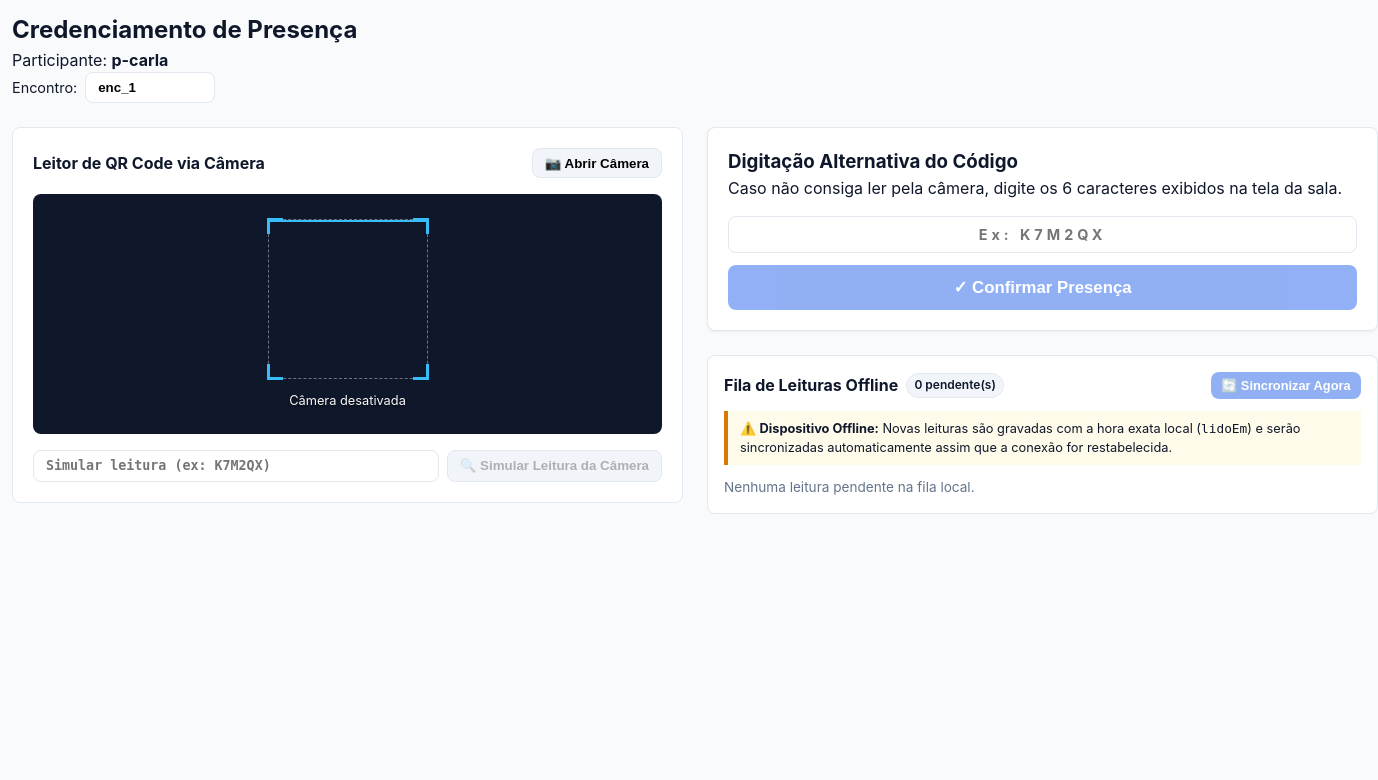
it: M3 — Suporte Offline e Sincronização Resiliente › armazena a leitura localmente quando o dispositivo está offline, registrando o instante lidoEm
The width and height of the screenshot is (1378, 780).
Type "K7M2QX" into the field with test id "input-codigo-manual" at (1042, 235), box [728,216,1357,253]
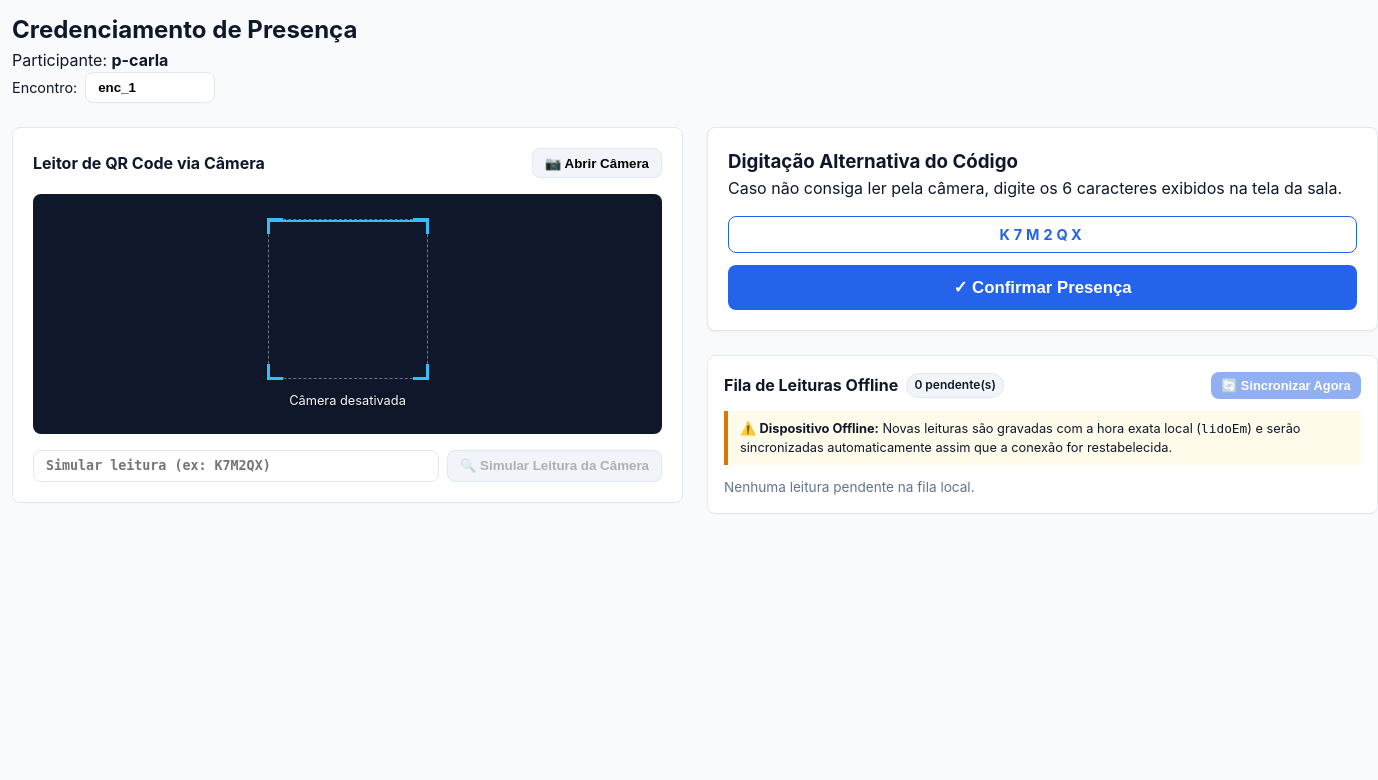
Click the button with test id "btn-confirmar-presenca" at (1042, 288), box [728,265,1357,310]
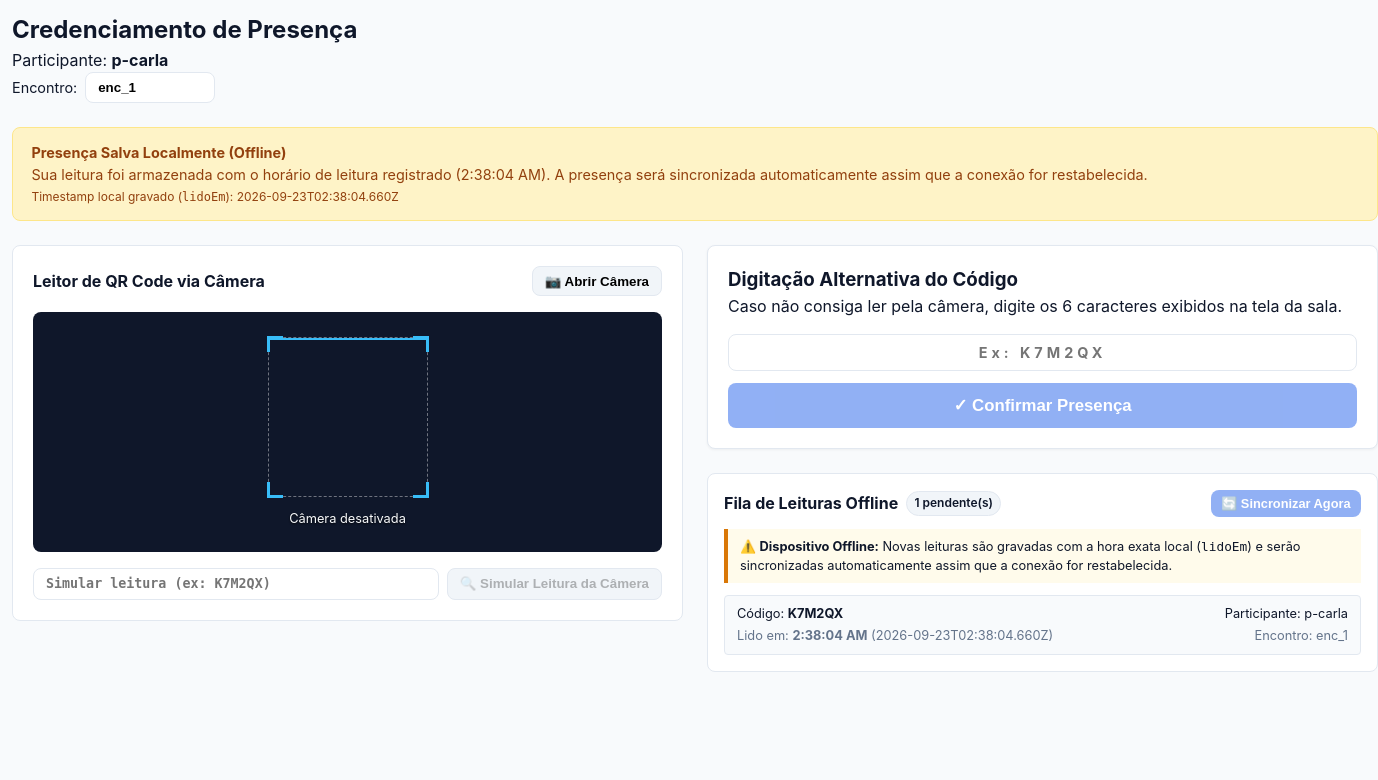
Check: the element with test id "participante-feedback" shows "Presença Salva Localmente (Offline)", box [31,144,286,161]
Check: the element with test id "participante-feedback" shows "Timestamp local gravado (lidoEm):", box [12,127,1377,221]
Check: the text "K7M2QX" is shown, box [788,606,843,621]
